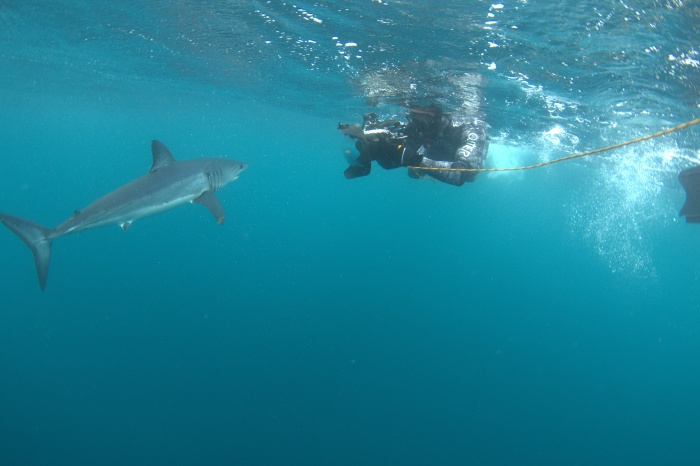Mako: (1, 131, 255, 292)
